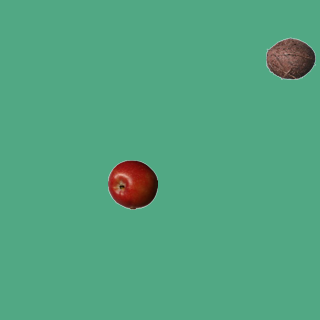Apple Braeburn: (107, 159, 157, 209)
Cocos: (265, 33, 315, 83)
